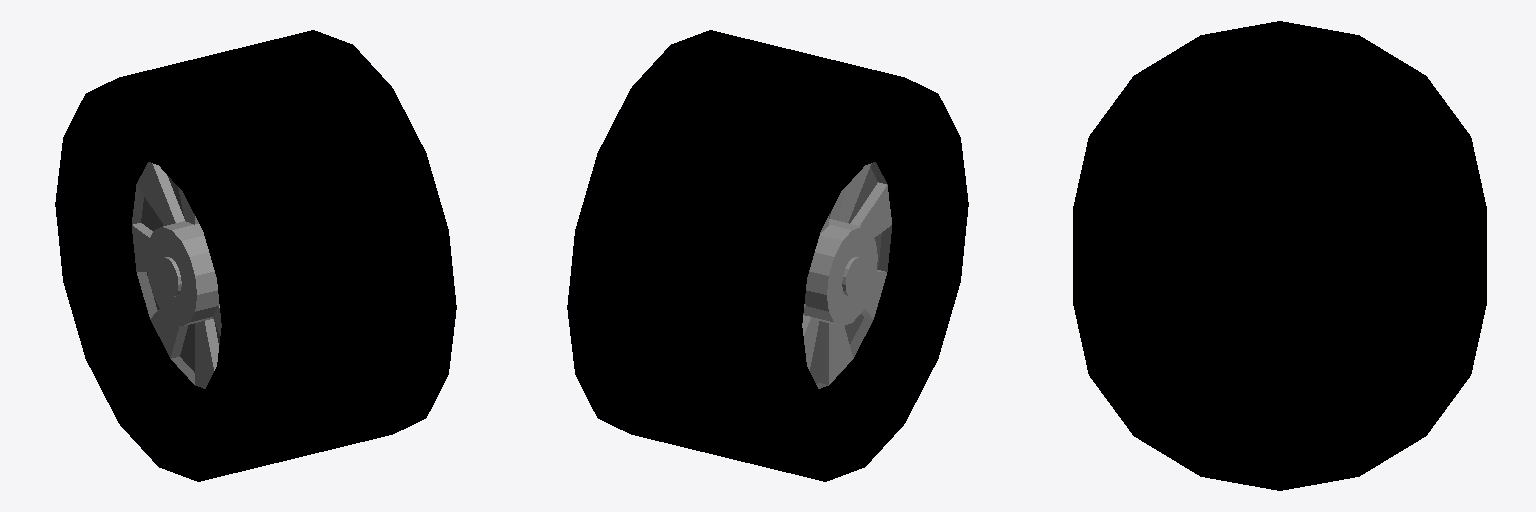
3 views of the same model, side by side, from view 1: azimuth 30°, elevation 25°; view 2: azimuth 150°, elevation 25°; view 3: azimuth 270°, elevation 25° (orthographic).
Visible parts, largest first — view 1: Cylinder_001; view 2: Cylinder_001; view 3: Cylinder_001.
Part boxes in pixels (bbox=[...]): Cylinder_001: bbox=[55, 30, 456, 481]; Cylinder_001: bbox=[567, 30, 968, 481]; Cylinder_001: bbox=[1073, 21, 1486, 490].
Bounding box in the file's own units: 16.98 × 31.29 × 31.29.
3 materials, 3 textured.